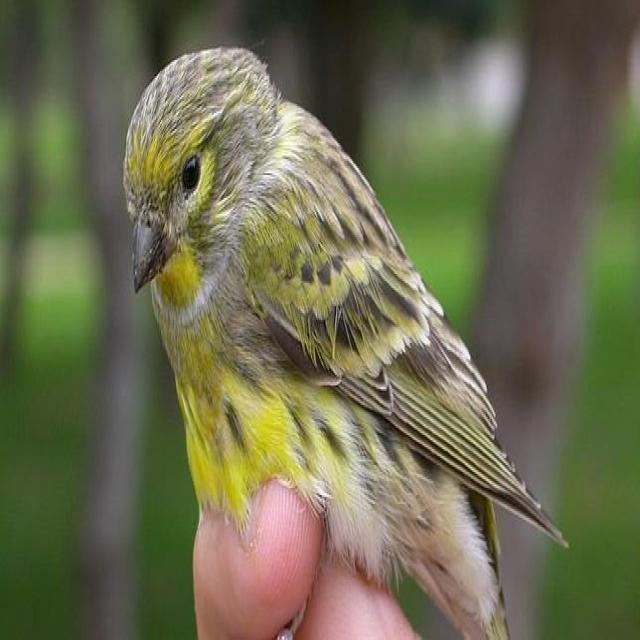bird: (112, 19, 640, 640)
